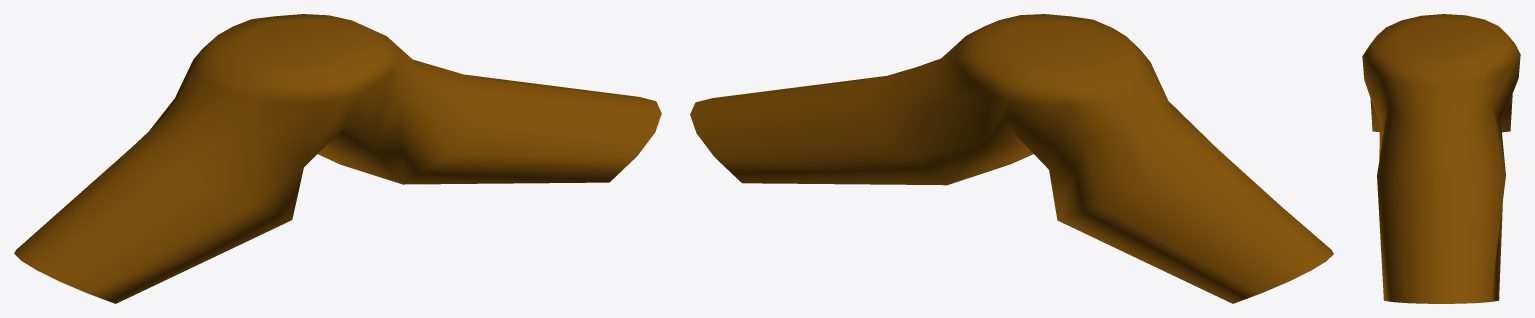
The model's file is Platzhalter_Baumstumpf.fbx.
The picture shows the model from 3 angles, left to right: view 1: azimuth 30°, elevation 25°; view 2: azimuth 150°, elevation 25°; view 3: azimuth 270°, elevation 25°; orthographic projection. The views are drawn at different scales.
Visible parts, largest first — view 1: Platzhalter_Baumstumpf; view 2: Platzhalter_Baumstumpf; view 3: Platzhalter_Baumstumpf.
Part boxes in pixels (x1=…): Platzhalter_Baumstumpf: x1=14, y1=14, x2=661, y2=303; Platzhalter_Baumstumpf: x1=690, y1=14, x2=1333, y2=303; Platzhalter_Baumstumpf: x1=1362, y1=14, x2=1520, y2=303.
Bounding box in the file's own units: 68.18 × 20.43 × 17.82.
